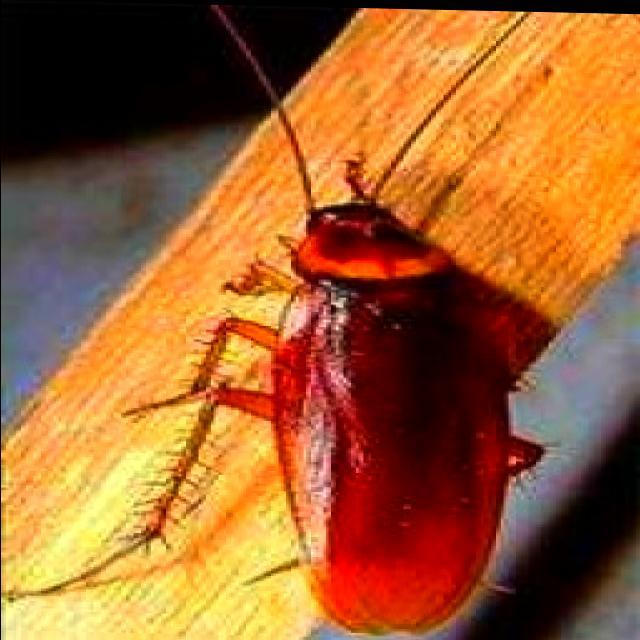cockroach: (269, 199, 556, 636)
